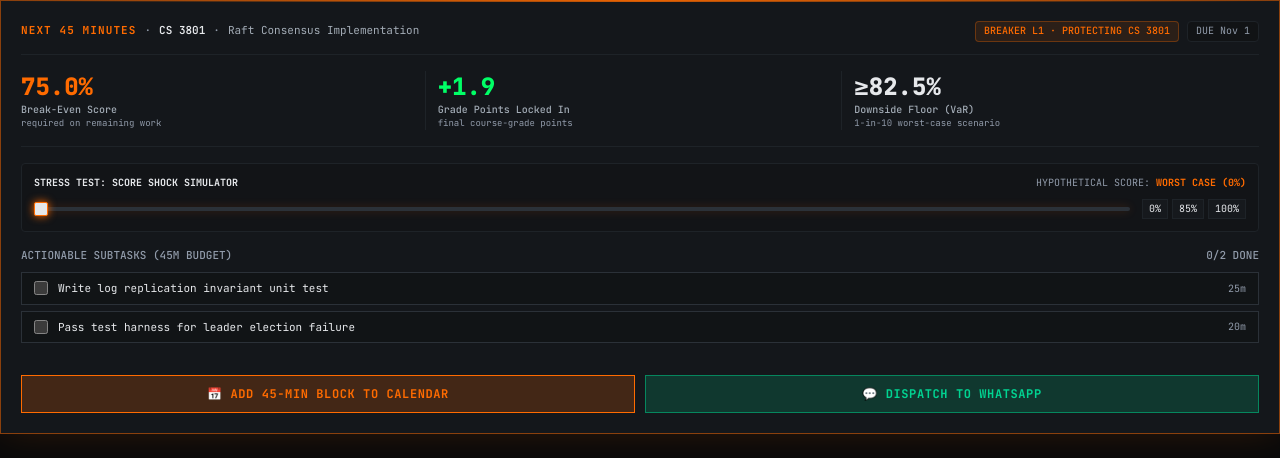
FocusBlockCard › dynamically adjusts downside floor when score shock presets are clicked
expect the text with test id "downside-floor-metric" reads "≥82.5%": met, box [854, 70, 941, 102]
What coordinates should you click on to do the following:
click the button "100%"
I would click on:
 (1227, 209)
Its box is [1208, 198, 1246, 219].
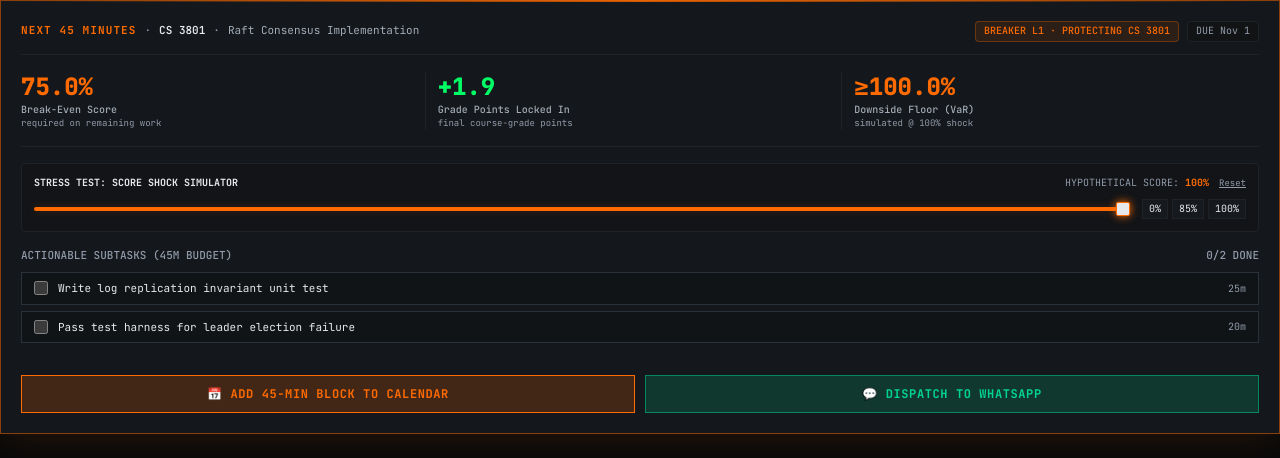
expect the text with test id "downside-floor-metric" reads "≥100.0%": met, box [854, 70, 955, 102]
expect the text "simulated @ 100% shock" is shown: met, box [854, 117, 973, 129]
expect the button "Reset" is shown: met
What coordinates should you click on to do the following:
click the button "Reset"
I would click on:
 (1232, 183)
Its box is [1219, 177, 1246, 190].
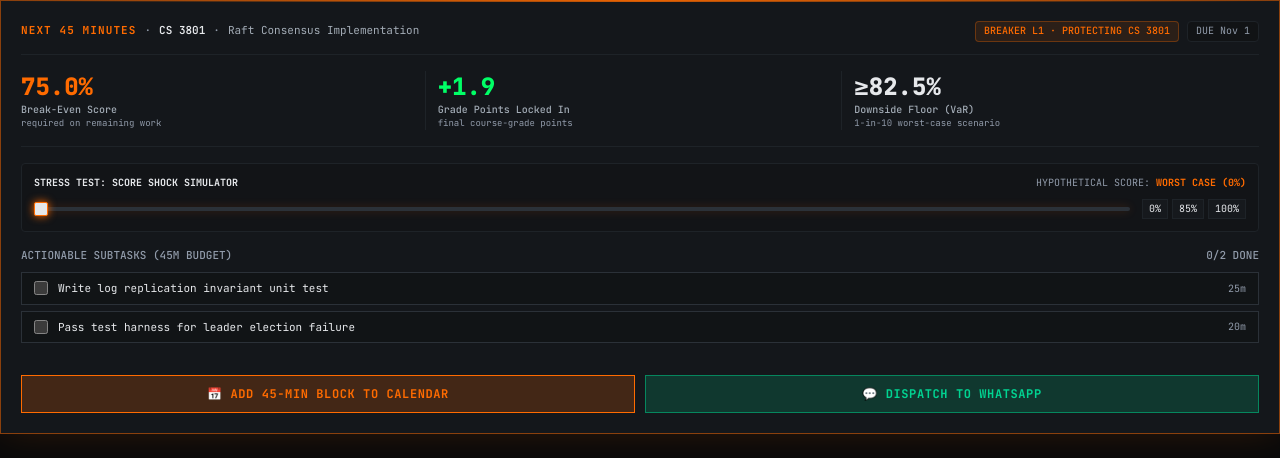
expect the text with test id "downside-floor-metric" reads "≥82.5%": met, box [854, 70, 941, 102]
